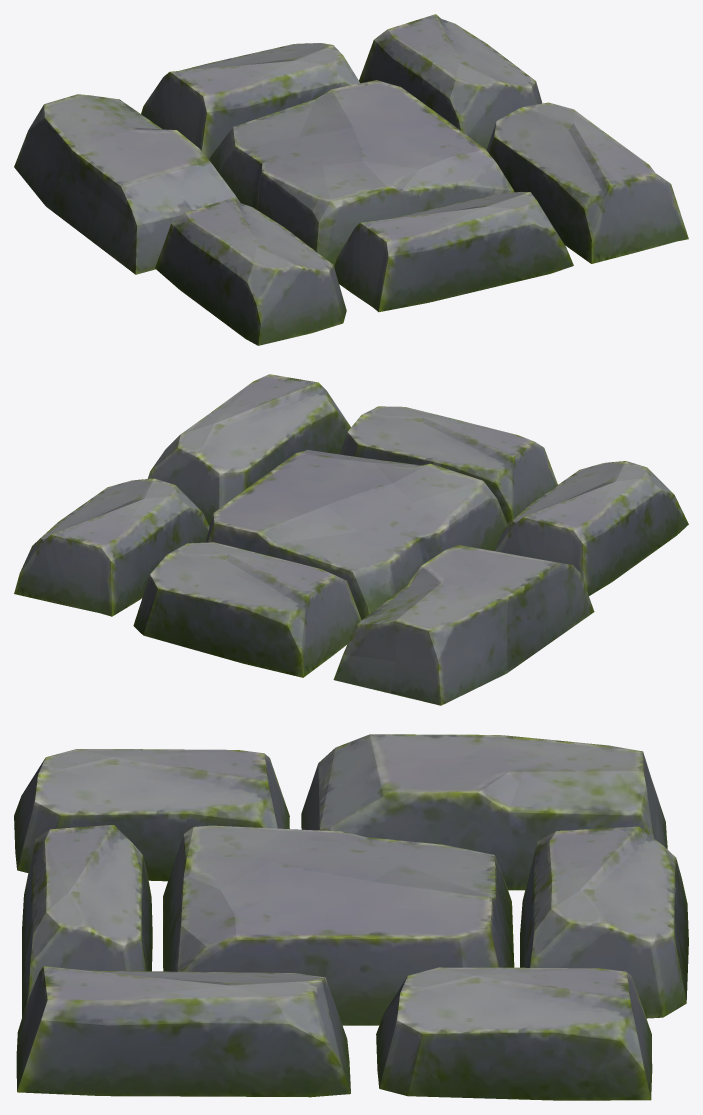
The model's file is RockPath_Square_Small_2.gltf.
The picture shows the model from 3 angles, top to bottom: view 1: azimuth 30°, elevation 25°; view 2: azimuth 150°, elevation 25°; view 3: azimuth 270°, elevation 25°; orthographic projection. The views are drawn at different scales.
Visible parts, largest first — view 1: RockPath_Square_Small_2; view 2: RockPath_Square_Small_2; view 3: RockPath_Square_Small_2.
Part boxes in pixels (left/top/right/bottom): RockPath_Square_Small_2: left=14, top=14, right=688, bottom=345; RockPath_Square_Small_2: left=14, top=374, right=688, bottom=705; RockPath_Square_Small_2: left=14, top=734, right=688, bottom=1100.
Bounding box in the file's own units: 0.9927 × 0.1493 × 0.9661.
1 material, 1 textured.
